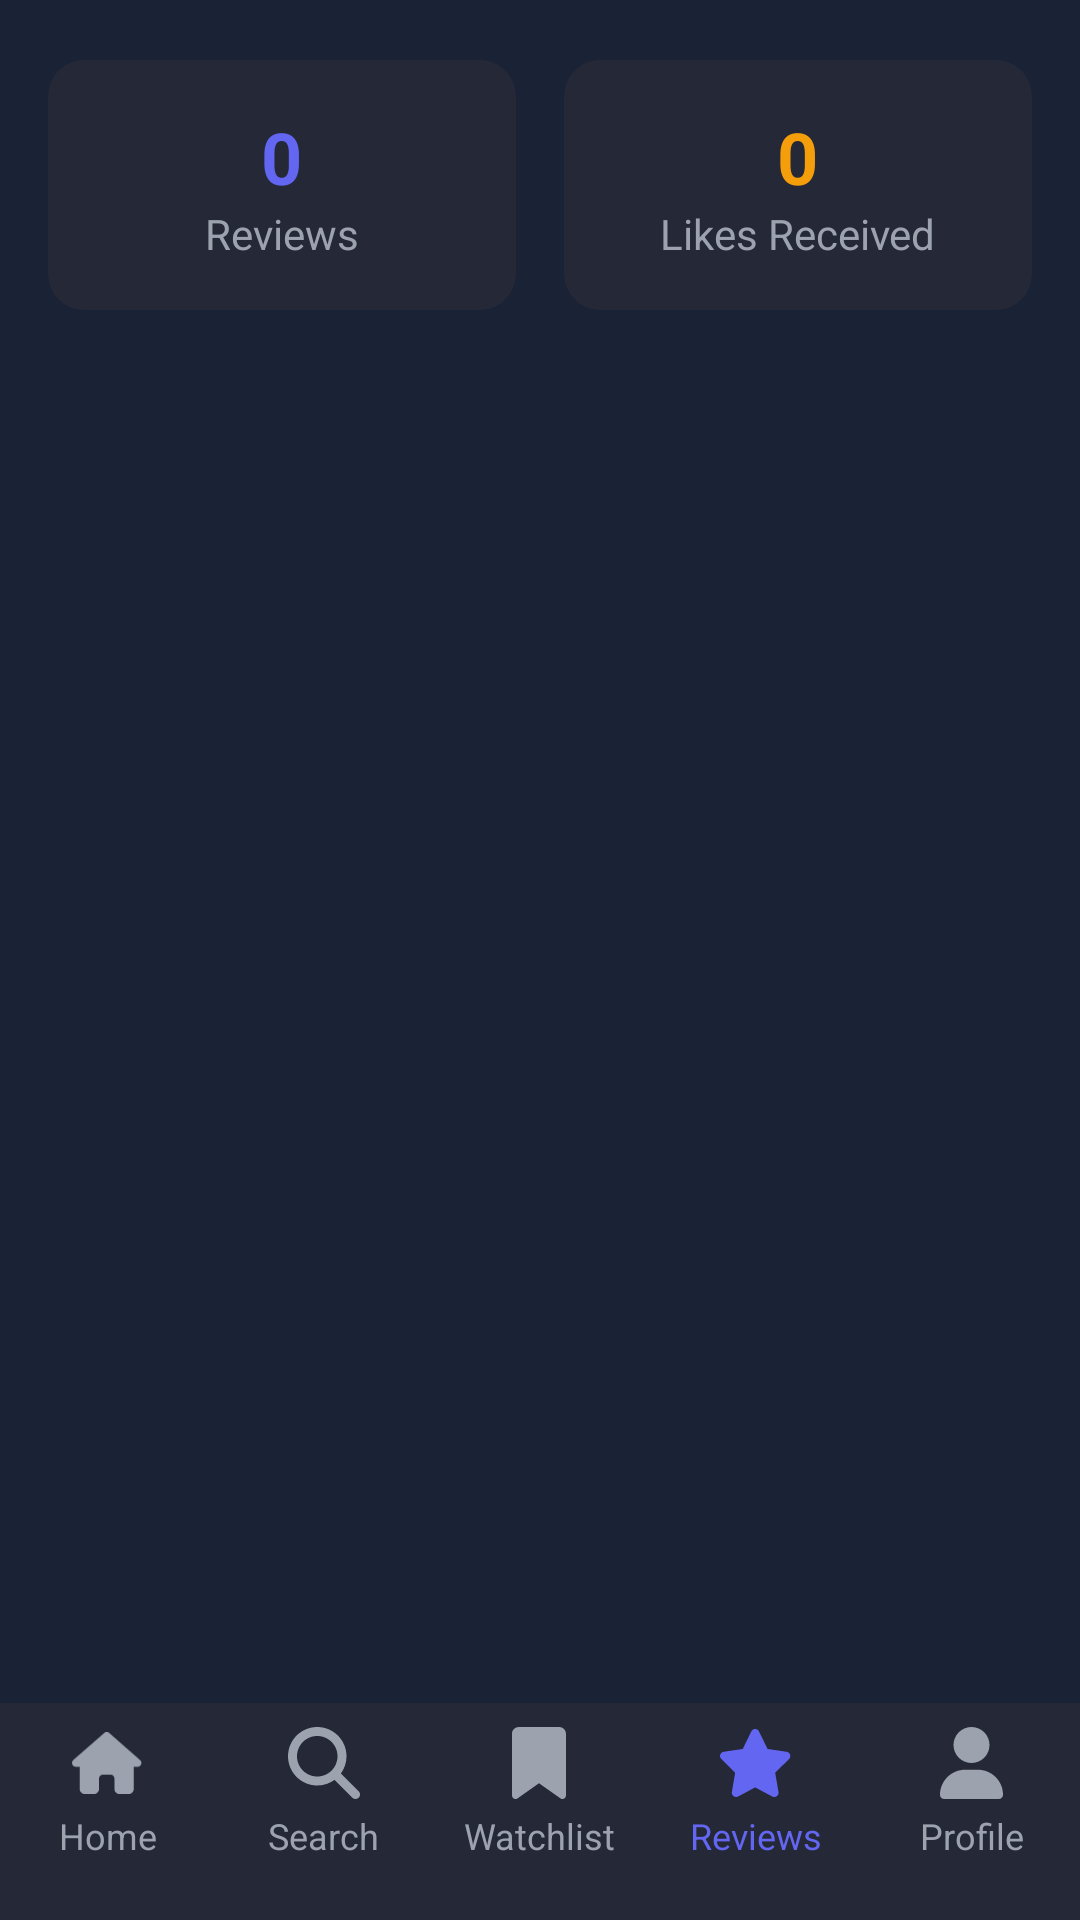

Named icons in this screenshot (1080 × 1920) and their bounding boxes, (x1, y1, x2, y2):
Star icon: (720, 1729, 791, 1797)
